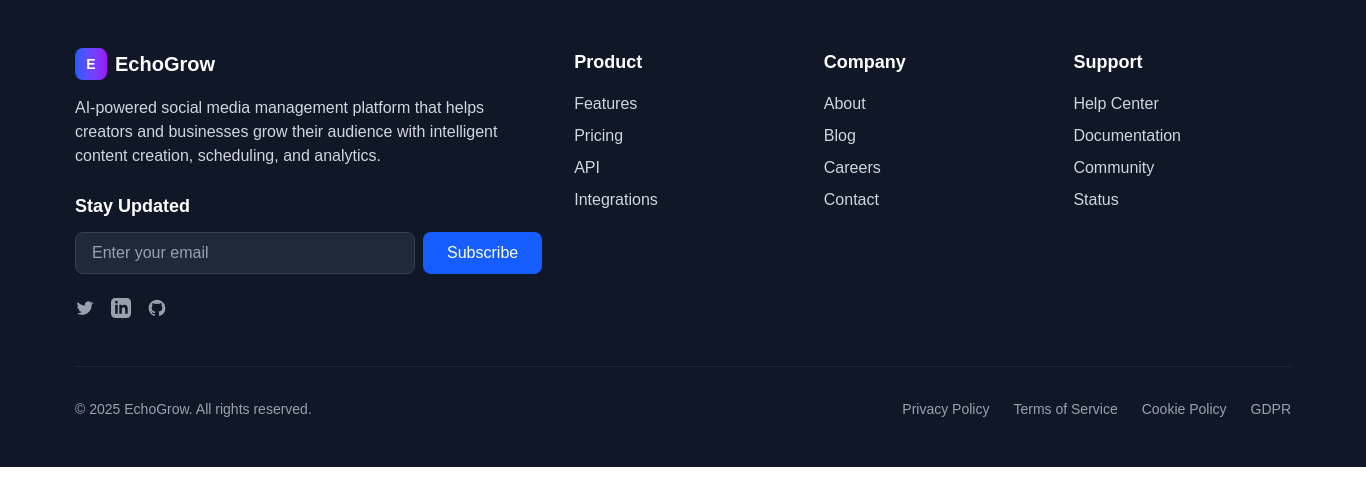
it: Footer Component › handles newsletter subscription
Type "test@example.com" into the field named "Email address for newsletter" at (245, 253), box top-left (75, 232), bottom-right (415, 274)
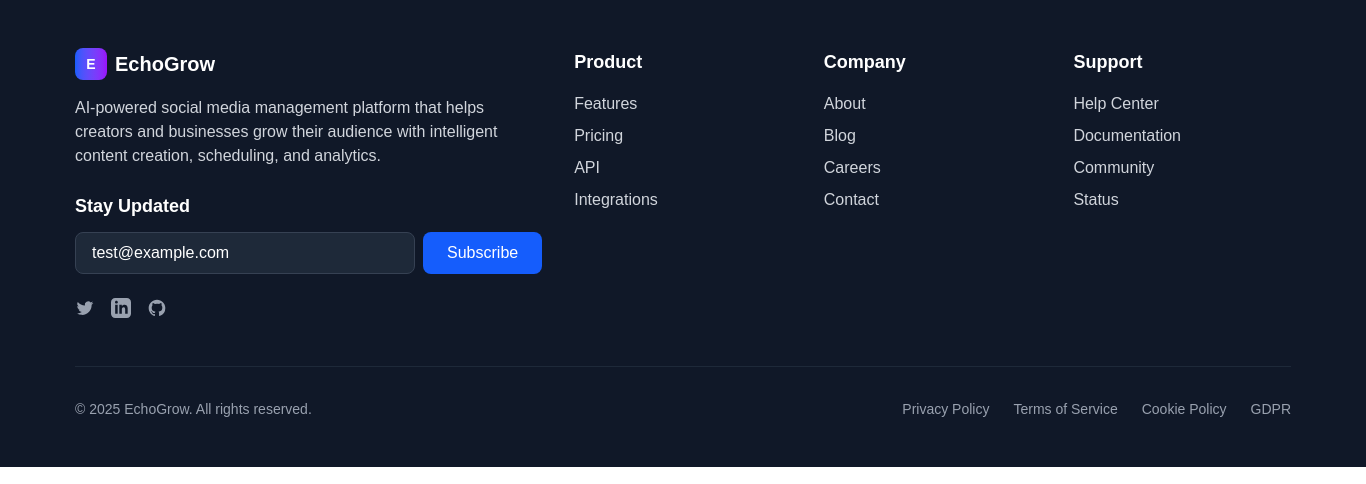
Click the button with aria-label "Subscribe to newsletter" at (483, 253), box top-left (423, 232), bottom-right (542, 274)
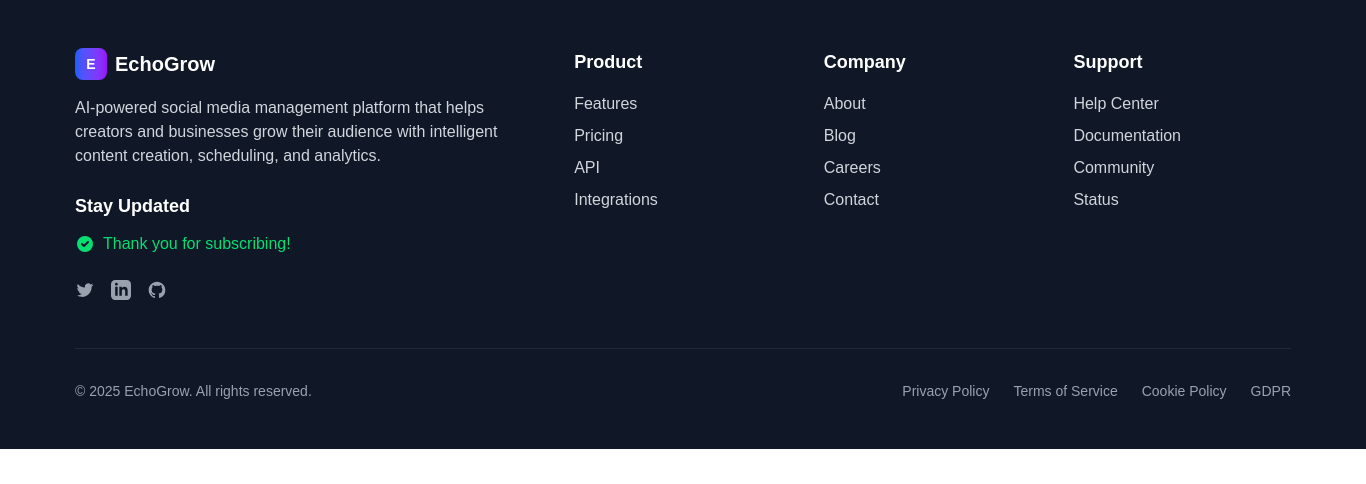
Expected: the text "Thank you for subscribing!" is shown, top-left (103, 232), bottom-right (291, 256)
